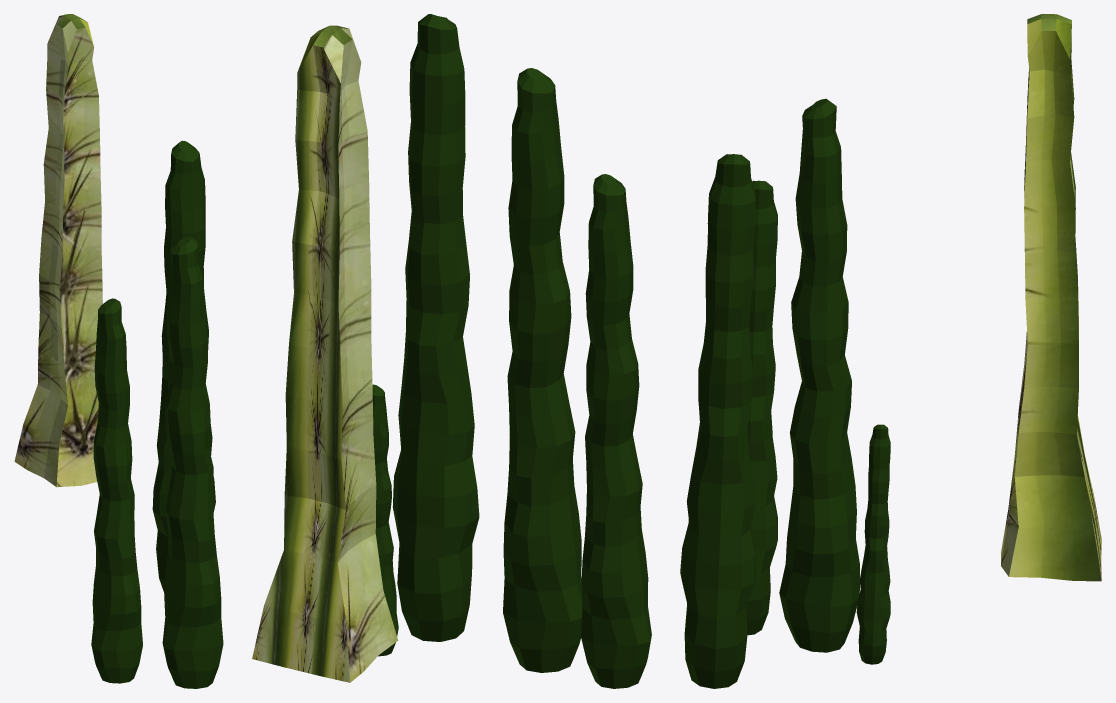
Rendered from cactus4.obj.
The picture shows the model from 3 angles, left to right: view 1: azimuth 30°, elevation 25°; view 2: azimuth 150°, elevation 25°; view 3: azimuth 270°, elevation 25°; orthographic projection. The views are drawn at different scales.
Visible parts, largest first — view 1: Cylinder.001_Cylinder, Cube_Cube.001; view 2: Cylinder.001_Cylinder, Cube_Cube.001; view 3: Cylinder.001_Cylinder, Cube_Cube.001.
Boxes of the visible parts, box(x1,y1,x2,y2) form: Cylinder.001_Cylinder: box(91, 140, 223, 688); Cube_Cube.001: box(14, 14, 102, 487); Cylinder.001_Cylinder: box(372, 14, 651, 688); Cube_Cube.001: box(252, 25, 398, 682); Cylinder.001_Cylinder: box(680, 98, 890, 688); Cube_Cube.001: box(1001, 14, 1101, 581).
Bounding box in the file's own units: 3.53 × 12.06 × 6.84.
Materials: 2 (1 with a texture image).
